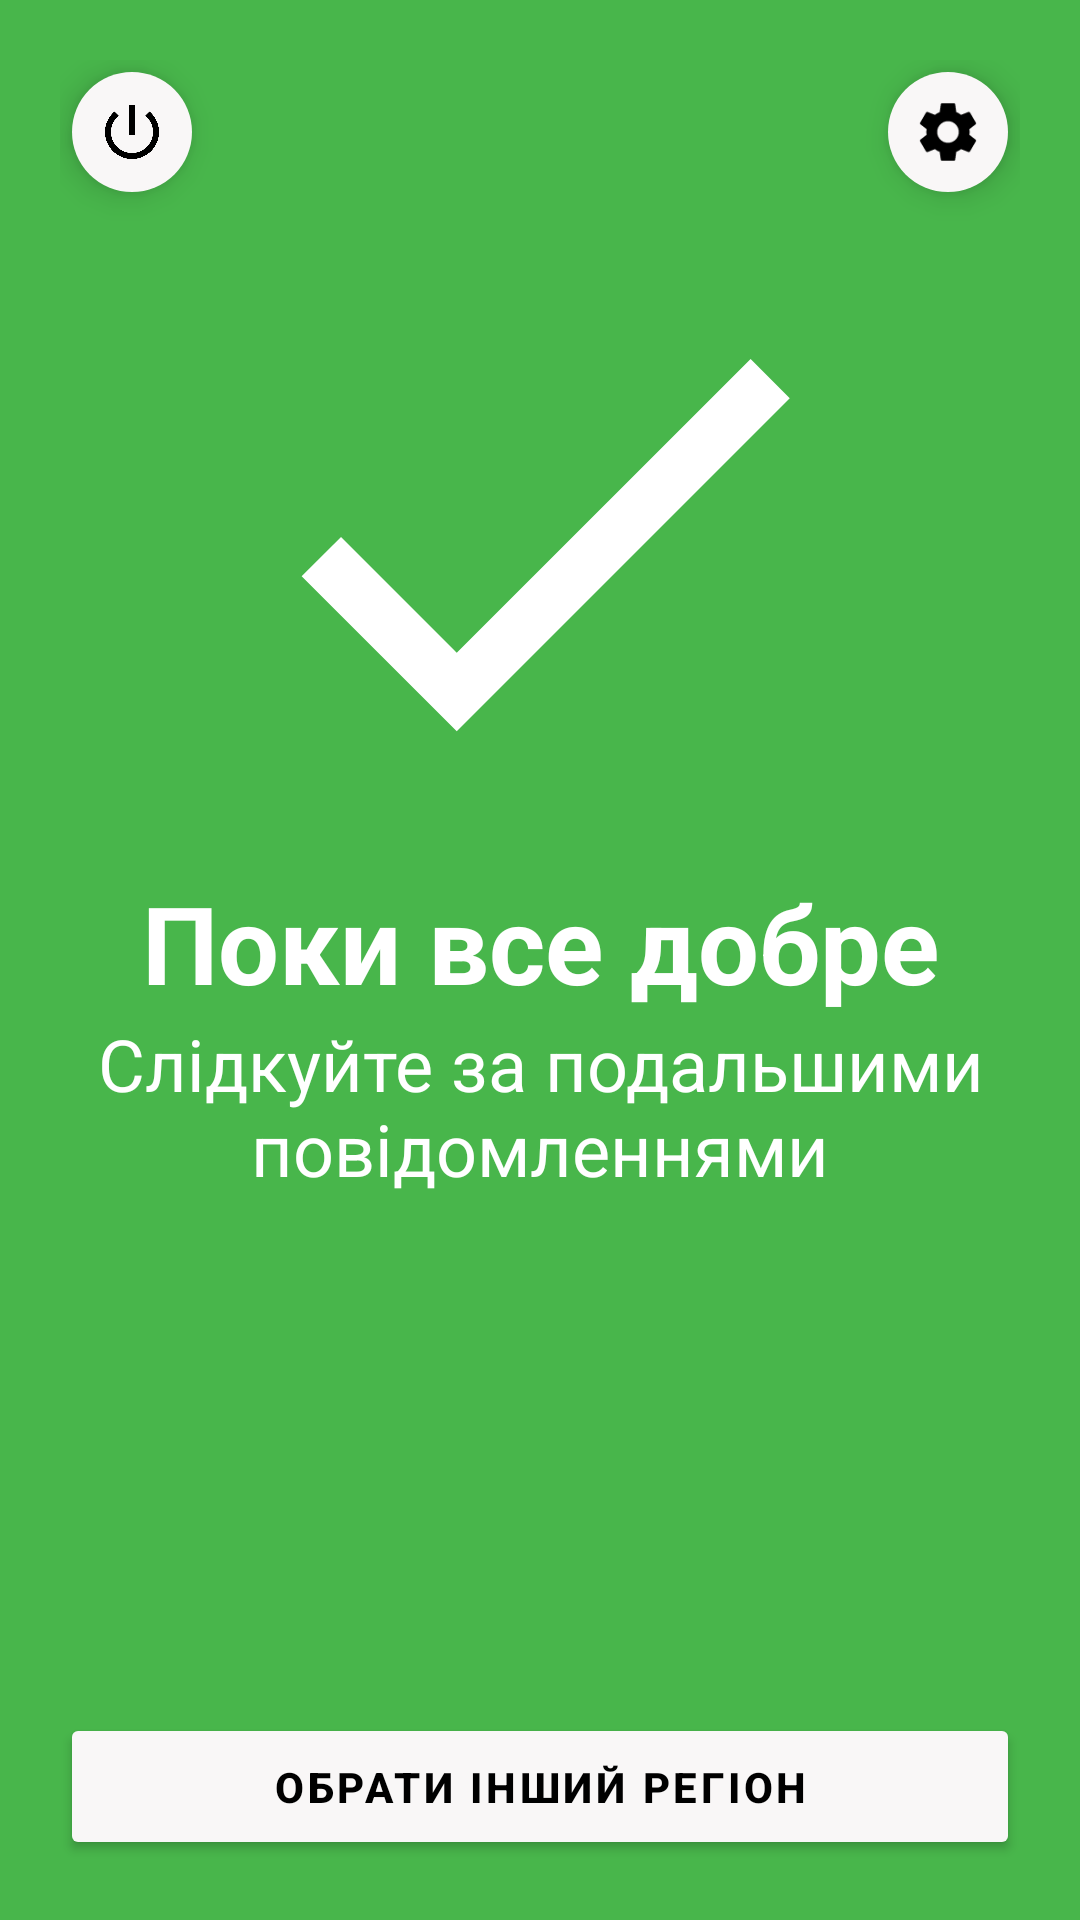

Screen size 1080w x 1920h. Icon name, then its center in pixels as point (x, y):
Вимкнути сервіс: point (132, 132)
Налаштування: point (948, 132)
